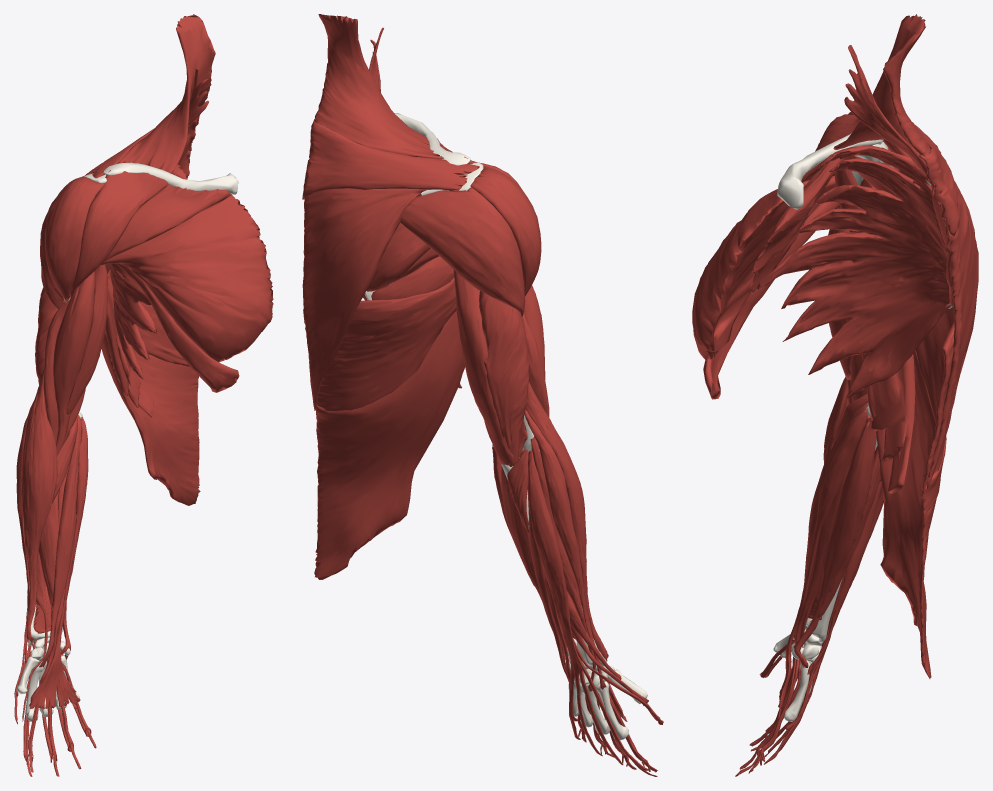
3 views of the same model, side by side, from view 1: azimuth 30°, elevation 25°; view 2: azimuth 150°, elevation 25°; view 3: azimuth 270°, elevation 25° (orthographic). The views are drawn at different scales.
Parts seen in each view (by area): view 1: s3, s6, s1, s15, s2, s28, s0, s5, s22, s24, s21, s16 (+8 smaller); view 2: s6, s2, s1, s18, s31, s0, s29, s28, s8, s11, s23, s30 (+6 smaller); view 3: s5, s6, s2, s3, s23, s0, s22, s4, s24, s14, s33, s25 (+6 smaller).
Part boxes in pixels (x1,y1,x2,y2): s3: (100, 184, 273, 392); s6: (101, 268, 200, 505); s1: (40, 170, 168, 308); s15: (53, 264, 107, 454); s2: (85, 14, 215, 178); s28: (21, 367, 57, 643); s0: (16, 162, 238, 721); s5: (110, 164, 187, 385); s22: (29, 417, 88, 709); s24: (26, 467, 91, 764); s21: (39, 415, 81, 667); s16: (43, 300, 85, 443); s6: (314, 276, 465, 579); s2: (302, 14, 479, 410); s1: (400, 142, 541, 316); s18: (453, 270, 529, 466); s31: (528, 450, 648, 770); s0: (365, 113, 647, 740); s29: (524, 409, 606, 689); s28: (525, 381, 608, 660); s8: (366, 223, 430, 291); s11: (371, 256, 453, 299); s23: (492, 446, 542, 601); s30: (530, 437, 595, 691); s5: (768, 145, 950, 398); s6: (858, 185, 954, 678); s2: (833, 14, 978, 489); s3: (692, 160, 839, 399); s23: (793, 418, 880, 667); s0: (773, 133, 952, 721); s22: (778, 408, 868, 718); s4: (748, 158, 845, 294); s24: (757, 410, 871, 765); s14: (844, 45, 926, 175); s33: (807, 481, 881, 674); s25: (735, 577, 821, 776).
Bounding box in the file's own units: 324 × 836 × 248.
